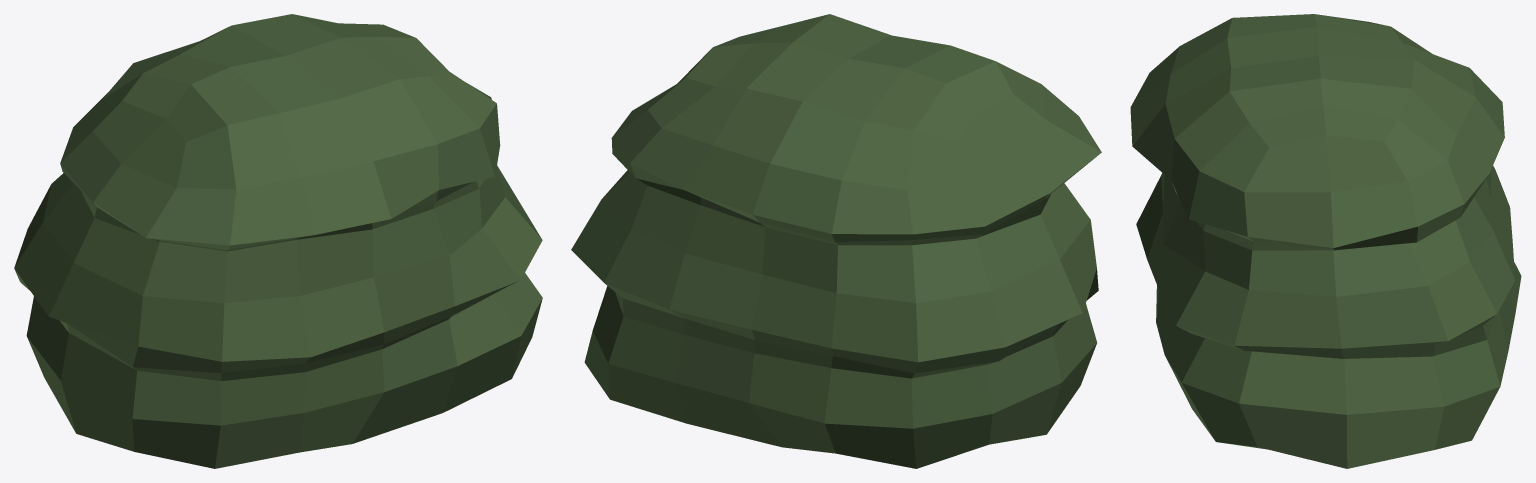
Rendered from BushBerries_Harvested.gltf.
The picture shows the model from 3 angles, left to right: view 1: azimuth 30°, elevation 25°; view 2: azimuth 150°, elevation 25°; view 3: azimuth 270°, elevation 25°; orthographic projection. The views are drawn at different scales.
Parts seen in each view (by area): view 1: BushBerries_Harvested; view 2: BushBerries_Harvested; view 3: BushBerries_Harvested.
Part boxes in pixels (box(x1,y1,x2,y2)): BushBerries_Harvested: box(14, 14, 542, 468); BushBerries_Harvested: box(571, 14, 1101, 468); BushBerries_Harvested: box(1130, 14, 1521, 468).
Size of the model in its own units: 1.72 by 1.25 by 1.32.
